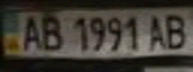1: (121, 12, 145, 51), (66, 12, 90, 51)
9: (87, 14, 109, 52), (106, 14, 127, 52)
A: (142, 11, 172, 52), (15, 12, 45, 52)
B: (160, 11, 193, 51), (36, 12, 66, 52)
